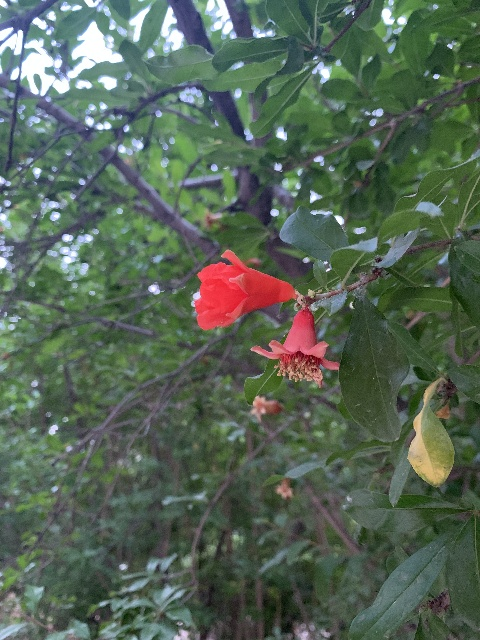early-fruit: (250, 394, 284, 423), (273, 478, 294, 500)
flower: (192, 250, 297, 331)
